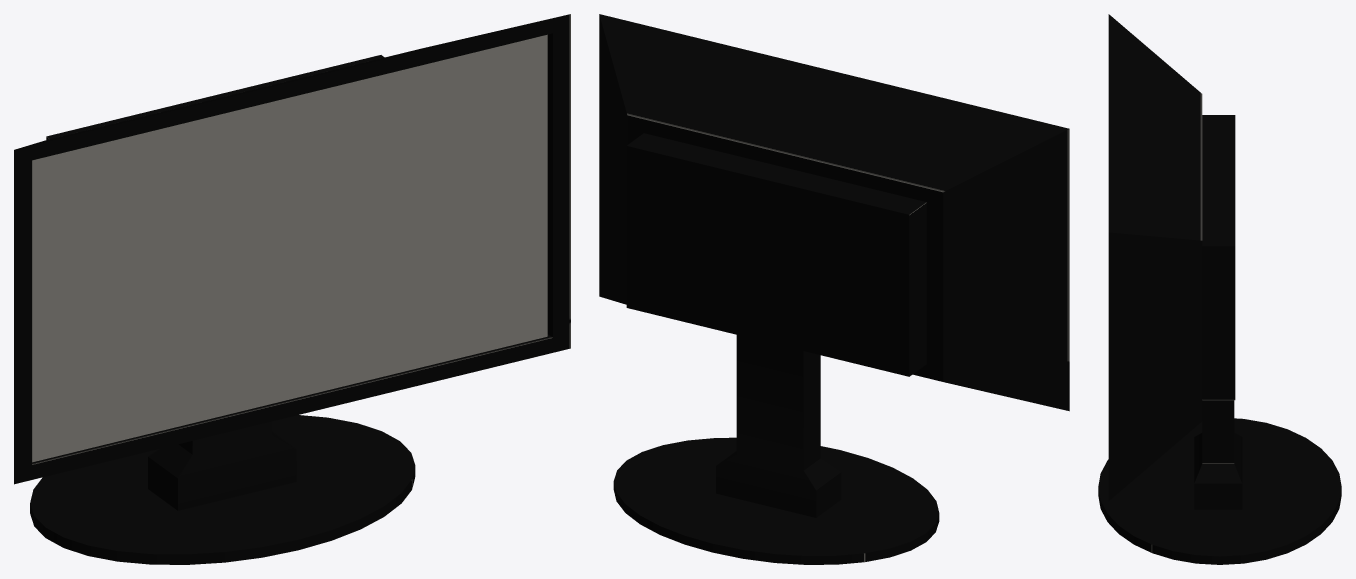
File: Screen.fbx
The picture shows the model from 3 angles, left to right: view 1: azimuth 30°, elevation 25°; view 2: azimuth 150°, elevation 25°; view 3: azimuth 270°, elevation 25°; orthographic projection. The views are drawn at different scales.
Parts seen in each view (by area): view 1: Cube.001, Cube; view 2: Cube; view 3: Cube.
Part boxes in pixels (box(x1,y1,x2,y2)): Cube.001: box(32, 34, 547, 462); Cube: box(14, 14, 570, 564); Cube: box(599, 14, 1069, 564); Cube: box(1098, 14, 1341, 564).
Size of the model in its own units: 333 by 265 by 157.
